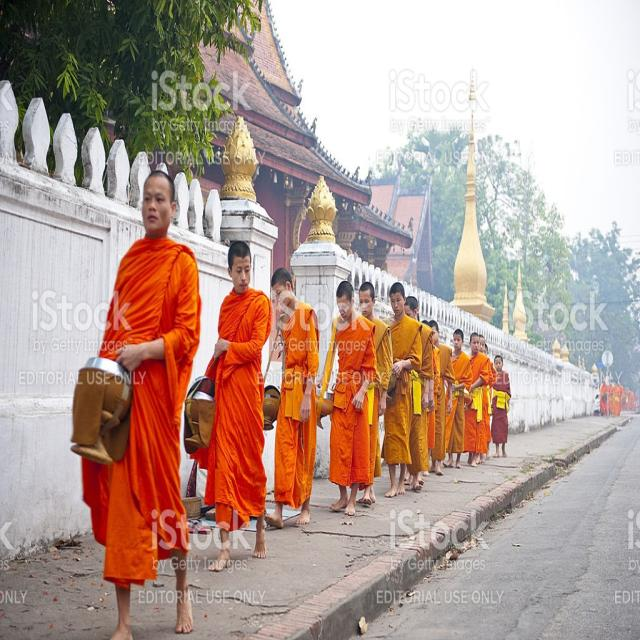body: (68, 168, 204, 639), (180, 236, 268, 575), (314, 280, 378, 520), (263, 266, 321, 530), (382, 280, 423, 499), (357, 280, 392, 505), (403, 294, 435, 494), (427, 318, 455, 476), (443, 328, 473, 470), (462, 331, 488, 469), (421, 318, 441, 478), (480, 342, 500, 460), (596, 368, 640, 421), (490, 354, 511, 460), (478, 333, 494, 465), (402, 294, 430, 329), (399, 458, 433, 486)
